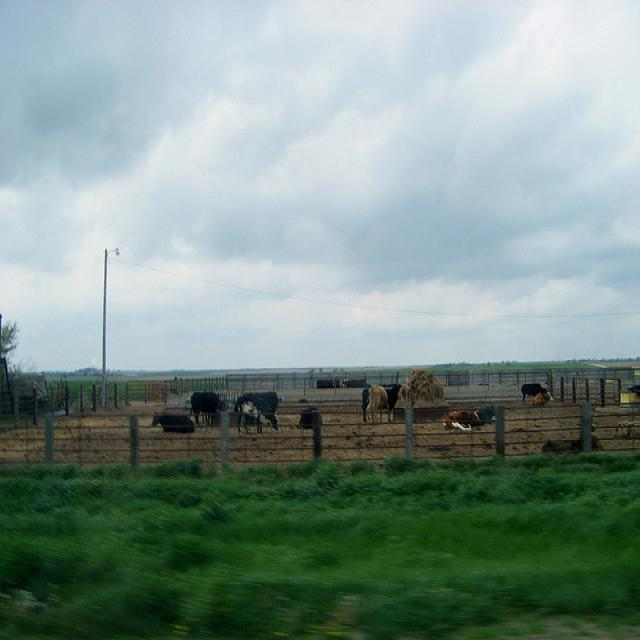cow: (540, 416, 602, 451), (233, 392, 277, 433), (360, 381, 400, 420), (187, 388, 221, 427), (150, 408, 196, 433), (365, 383, 389, 421), (255, 383, 280, 411), (445, 410, 479, 430), (295, 405, 320, 427), (520, 381, 545, 399), (531, 389, 552, 404), (474, 407, 495, 417)
